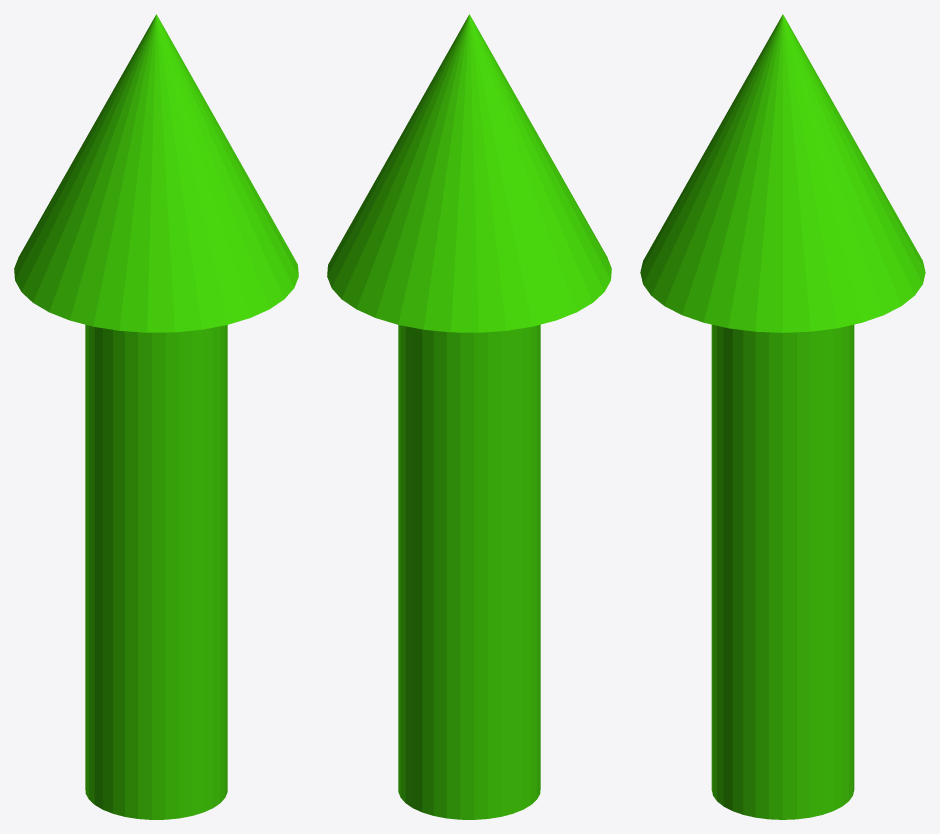
File: arrow.glb
3 renders of one model, left to right at view 1: azimuth 30°, elevation 25°; view 2: azimuth 150°, elevation 25°; view 3: azimuth 270°, elevation 25°, orthographic.
Visible parts, largest first — view 1: 円柱; view 2: 円柱; view 3: 円柱.
Boxes of the visible parts, box(x1,y1,x2,y2) form: 円柱: box(14, 14, 298, 819); 円柱: box(327, 14, 611, 819); 円柱: box(640, 14, 925, 819).
Size of the model in its own units: 1 by 3 by 1.
